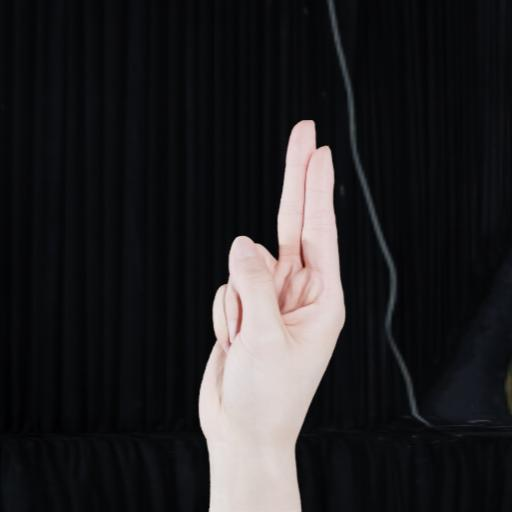S: (159, 100, 406, 454)
